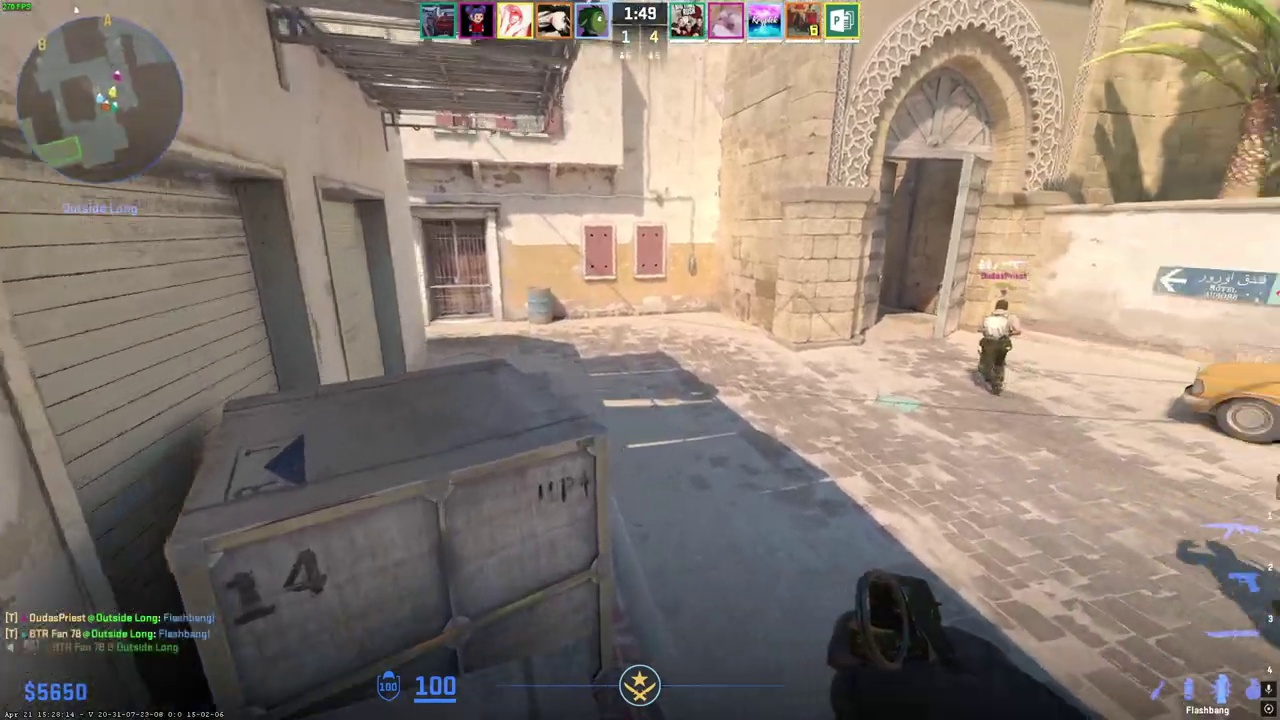Terrorist: (974, 299, 1016, 396)
